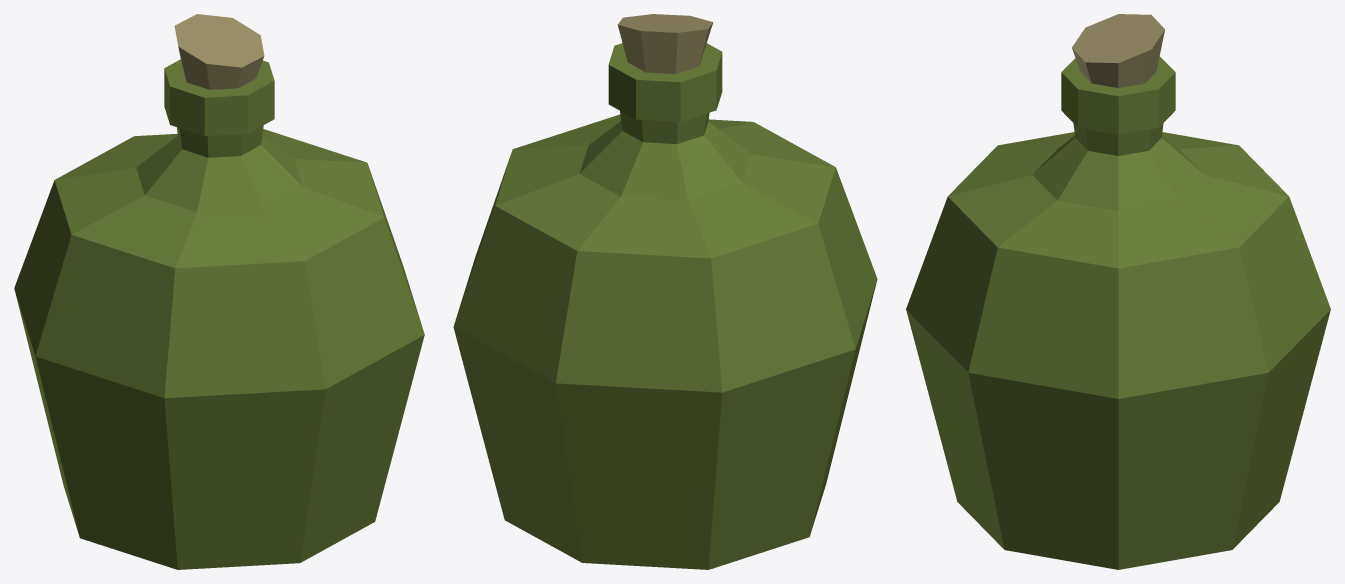
Rendered from Bottle_5.fbx.
3 renders of one model, left to right at view 1: azimuth 30°, elevation 25°; view 2: azimuth 150°, elevation 25°; view 3: azimuth 270°, elevation 25°, orthographic. The views are drawn at different scales.
Parts seen in each view (by area): view 1: Bottle_5; view 2: Bottle_5; view 3: Bottle_5.
Part boxes in pixels (bbox=[...]): Bottle_5: bbox=[14, 14, 424, 569]; Bottle_5: bbox=[453, 14, 877, 569]; Bottle_5: bbox=[906, 14, 1330, 569].
Bounding box in the file's own units: 17.3 × 21.26 × 17.3.
